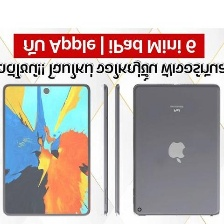phone: (0, 81, 93, 220), (128, 81, 221, 217), (112, 82, 122, 217), (101, 81, 109, 217)
